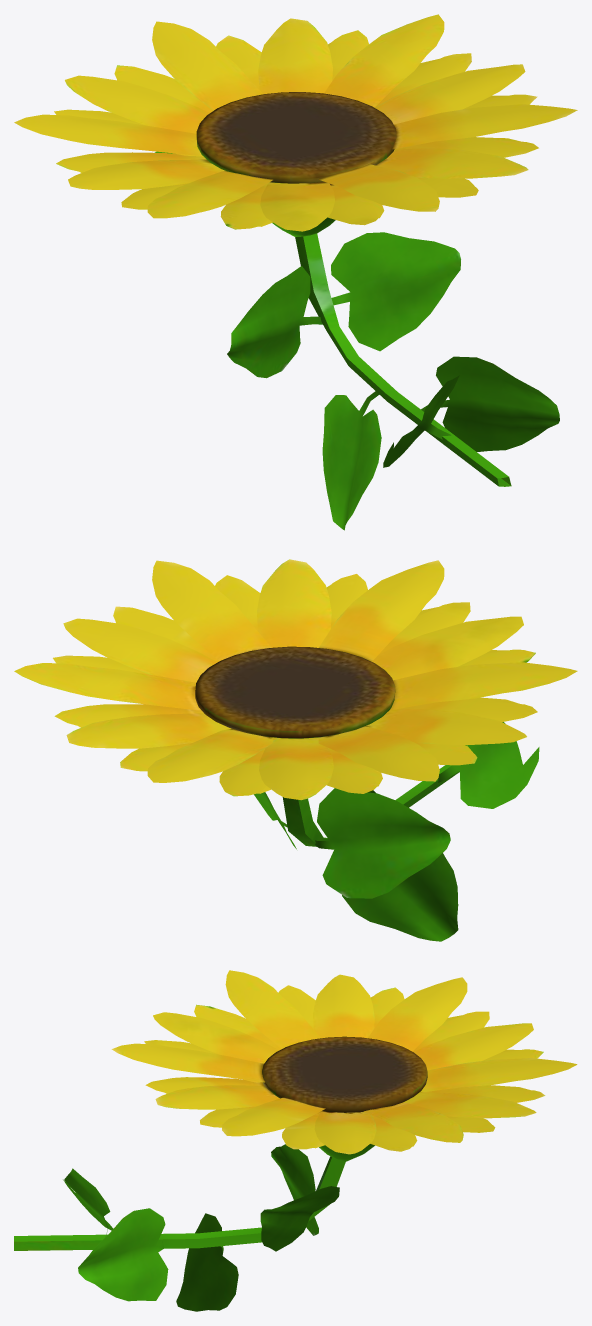
3 renders of one model, top to bottom at view 1: azimuth 30°, elevation 25°; view 2: azimuth 150°, elevation 25°; view 3: azimuth 270°, elevation 25°, orthographic. The views are drawn at different scales.
Visible parts, largest first — view 1: 13c8a69f; view 2: 13c8a69f; view 3: 13c8a69f.
Part boxes in pixels (x1=…): 13c8a69f: x1=14, y1=14, x2=577, y2=530; 13c8a69f: x1=14, y1=559, x2=577, y2=941; 13c8a69f: x1=14, y1=970, x2=577, y2=1311.
Size of the model in its own units: 0.1457 by 0.1026 by 0.1878.
Materials: 1 (1 with a texture image).
